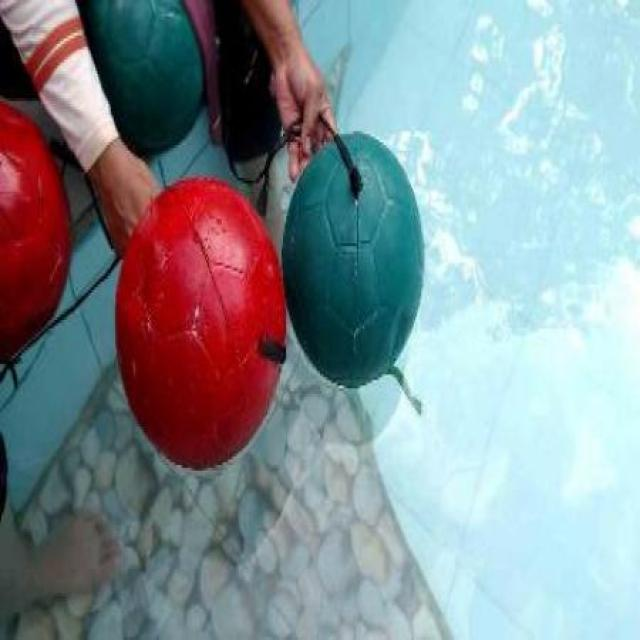buoy: (113, 176, 284, 469), (279, 127, 422, 388), (0, 101, 71, 364)
